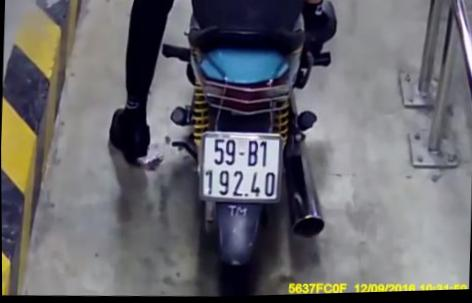LP: (196, 130, 282, 207)
